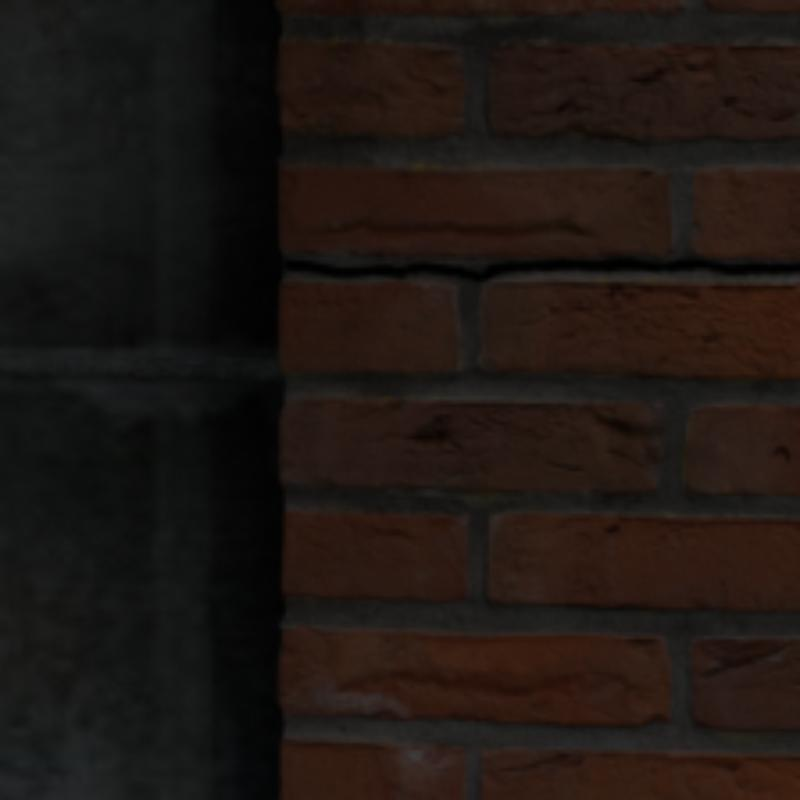pothole: (291, 258, 799, 279)
